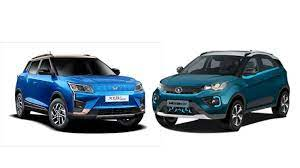XUV 400: (14, 51, 145, 133)
